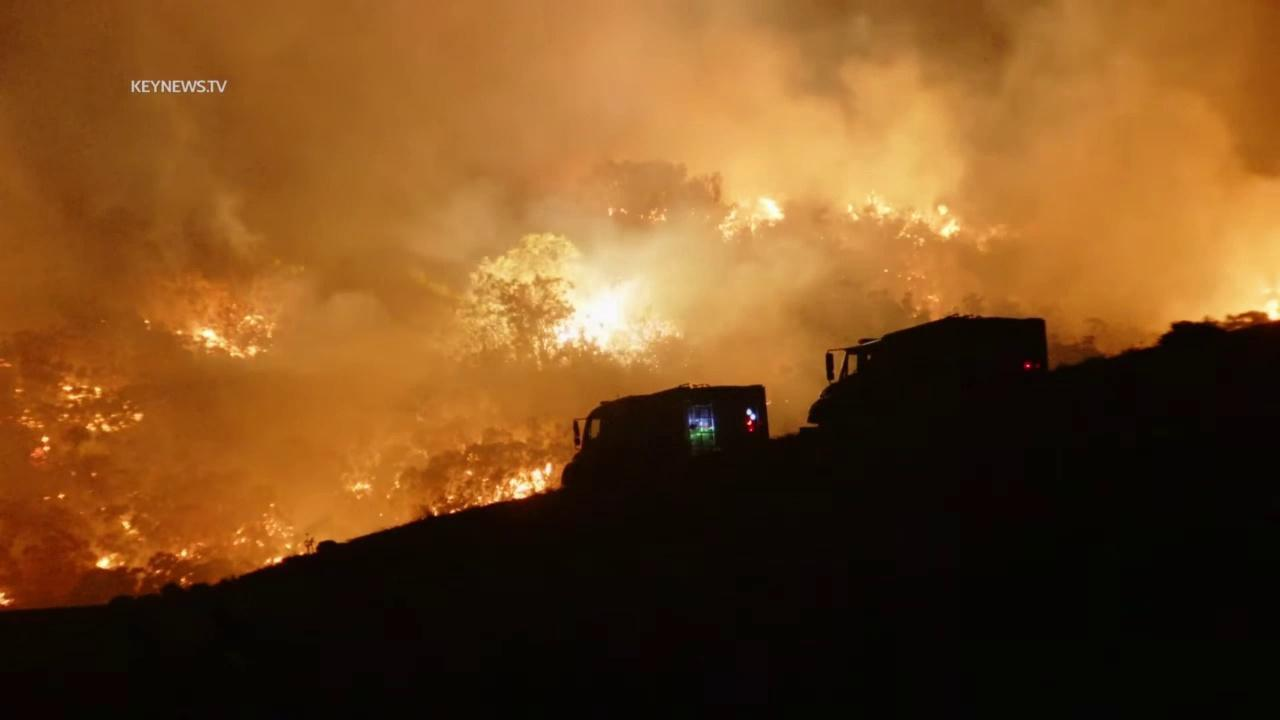fire: (545, 269, 684, 371), (864, 188, 962, 248), (173, 311, 278, 362), (471, 461, 555, 510), (716, 194, 785, 243), (83, 399, 146, 433), (54, 379, 105, 409), (262, 501, 296, 539), (1254, 283, 1280, 324), (92, 550, 127, 573), (30, 433, 52, 465), (346, 479, 376, 500), (121, 516, 144, 537), (639, 207, 669, 223), (604, 205, 632, 217), (0, 589, 17, 608), (845, 201, 859, 222), (177, 570, 194, 587), (261, 555, 286, 566), (448, 504, 468, 515), (174, 547, 189, 560), (141, 318, 154, 332), (232, 536, 248, 547), (430, 504, 440, 520), (55, 490, 67, 501), (253, 539, 266, 549), (235, 524, 245, 535), (283, 541, 293, 550), (463, 469, 474, 477), (394, 480, 402, 490), (90, 470, 98, 478)
smoke: (0, 0, 1280, 619)
